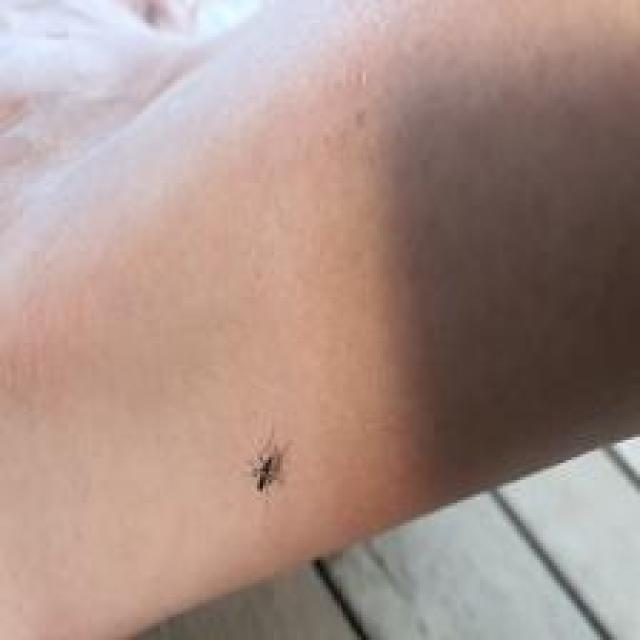Aedes albopictus: (250, 452, 279, 494)
